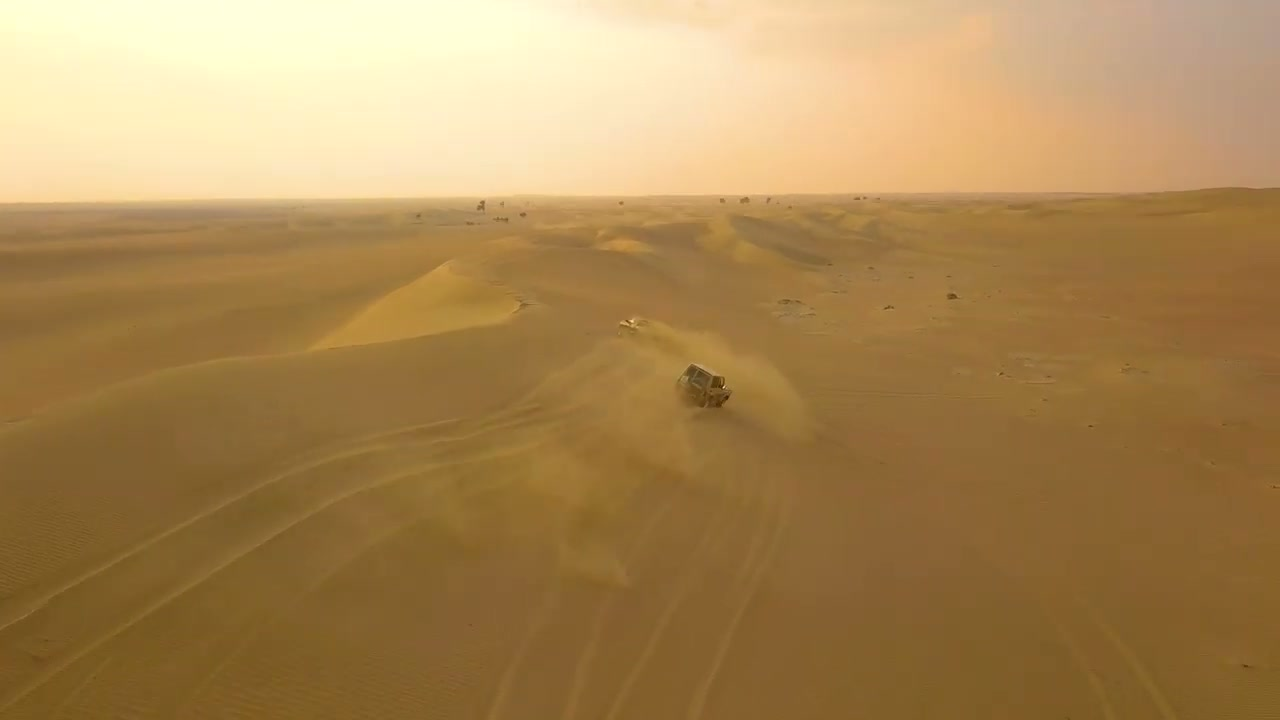vehicle_track: (0, 438, 544, 712), (0, 406, 540, 631), (175, 503, 429, 715), (951, 528, 1178, 719), (602, 493, 737, 719), (686, 472, 793, 719), (561, 424, 683, 573), (484, 576, 562, 719), (561, 590, 624, 719), (50, 655, 111, 719)
